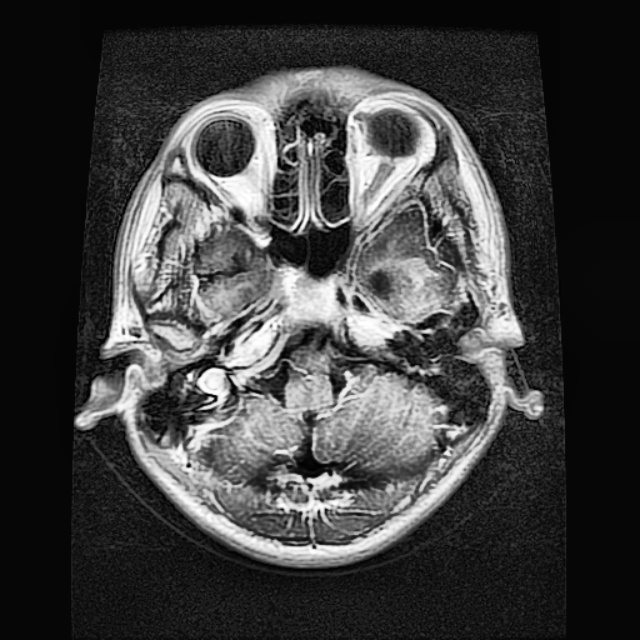Glioma: (367, 268, 389, 302)
